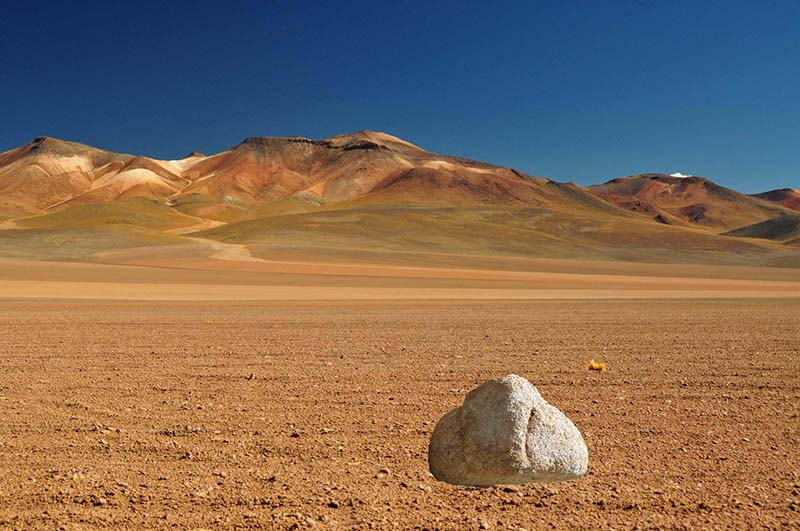Rocks: (423, 372, 594, 493)
